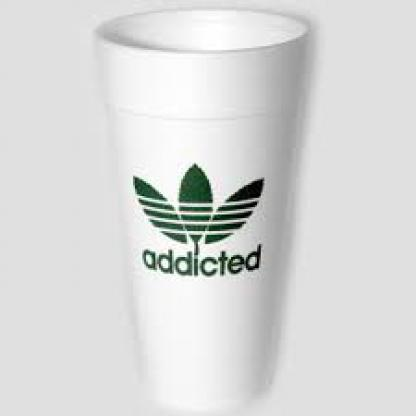paper: (92, 7, 309, 414)
